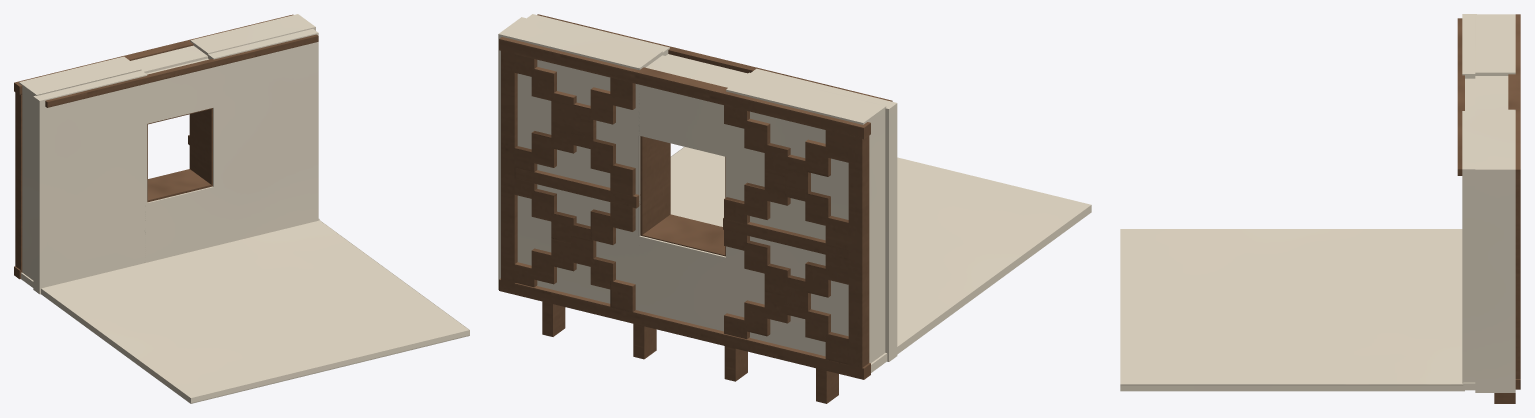
Rendered from med_window_jetty.glb.
The picture shows the model from 3 angles, left to right: view 1: azimuth 30°, elevation 25°; view 2: azimuth 150°, elevation 25°; view 3: azimuth 270°, elevation 25°; orthographic projection. The views are drawn at different scales.
Visible parts, largest first — view 1: med_window_jetty; view 2: med_window_jetty; view 3: med_window_jetty.
Boxes of the visible parts, x1,y1,x2,y2 form: med_window_jetty: (14, 14, 469, 403); med_window_jetty: (498, 14, 1091, 403); med_window_jetty: (1120, 14, 1520, 403).
Bounding box in the file's own units: 4.04 × 3.04 × 4.36.
1 material, 1 textured.
